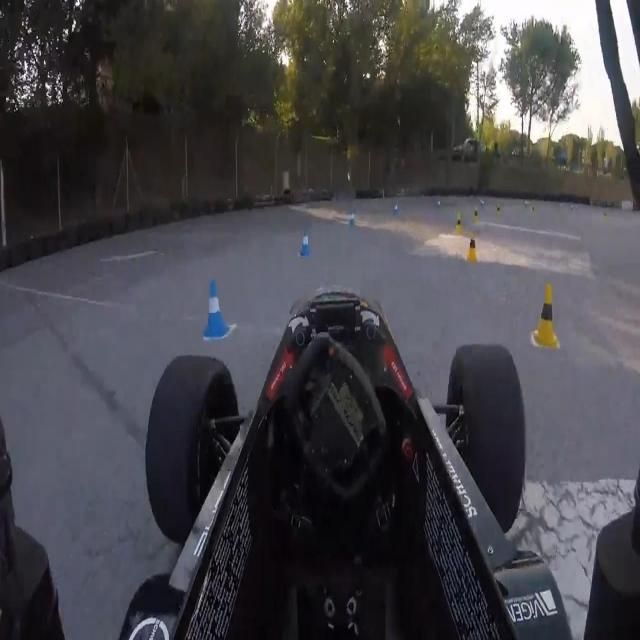blue_cone: (203, 280, 231, 339), (298, 227, 311, 259), (348, 208, 357, 231), (393, 203, 399, 220)
yellow_cone: (534, 281, 560, 347), (465, 229, 478, 264), (454, 214, 464, 238), (473, 206, 479, 226), (495, 204, 501, 219)
